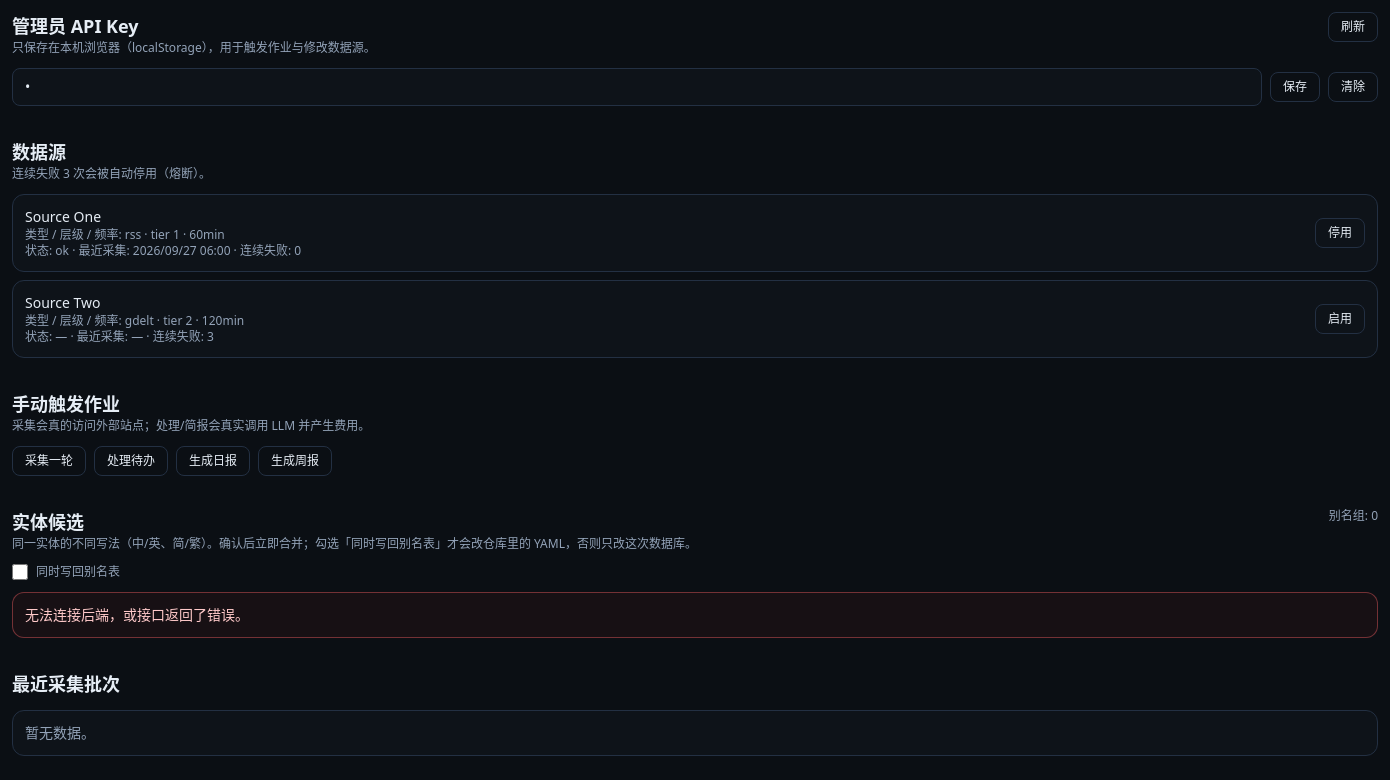
AdminView › 有 API Key 时点击采集一轮会 POST 并把 stats 渲染出来
Expected: the text "Source One" is shown, [25, 207, 101, 226]
What coordinates should you click on to do the following:
click the button "采集一轮"
I would click on:
 (49, 461)
Its box is [12, 446, 86, 476].
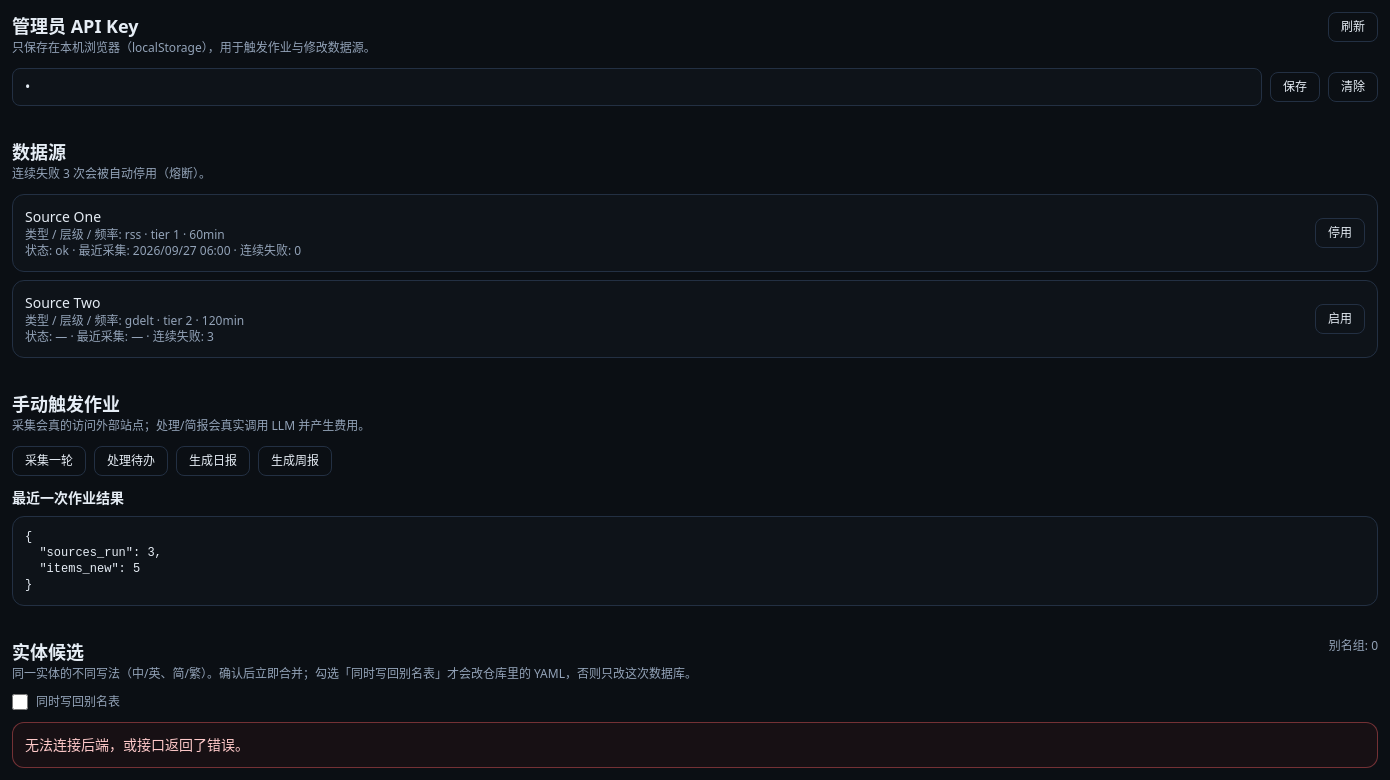
Expected: the text "{ \"sources_run\": 3, \"items_new\": 5 }" is shown, [12, 516, 1378, 606]
Expected: the heading "最近一次作业结果" is shown, [12, 488, 124, 507]
